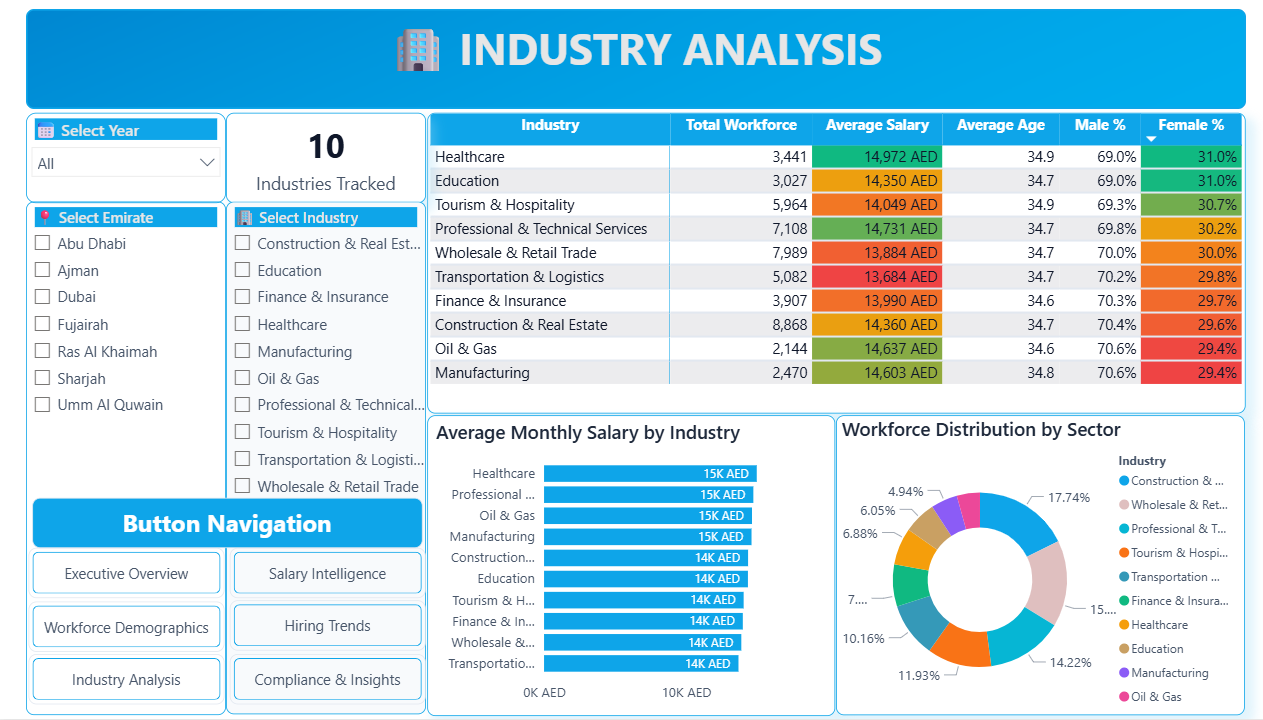

This screenshot's page, from the dashboard's own definition file:
{"tool":"powerbi","page":{"name":"Industry Analysis","canvas":[1280,720],"ordinal":2},"visuals":[{"type":"image","box":[30,9.8,1220,100.1],"z":0},{"type":"textbox","box":[30,9.8,1220,100.1],"z":1000},{"type":"pivotTable","fields":{"Rows":["workforce_data.Industry"],"Values":["All Measures.Total Workforce","All Measures.Average Salary","All Measures.Average Age","All Measures.Male %","All Measures.Female %"]},"box":[430.7,113.4,818,300.4],"z":2000},{"type":"clusteredBarChart","title":"Average Monthly Salary by Industry","fields":{"Category":["workforce_data.Industry"],"Y":["All Measures.Average Salary"]},"box":[431.2,416.2,408,300.4],"z":3000},{"type":"donutChart","title":"Workforce Distribution by Sector","fields":{"Category":["workforce_data.Industry"],"Y":["All Measures.Total Workforce"]},"box":[840,416.2,408.8,300],"z":4000},{"type":"card","fields":{"Values":["All Measures.Industry Count"]},"box":[230.1,113.8,200,90],"z":5000},{"type":"slicer","fields":{"Values":["Date.Year"]},"box":[29.5,113.3,200,90],"z":6000},{"type":"slicer","fields":{"Values":["workforce_data.Emirate"]},"box":[29.5,202.4,200,513.9],"z":7000},{"type":"slicer","fields":{"Values":["workforce_data.Industry"]},"box":[230.2,202,200.3,513],"z":8000},{"type":"actionButton","box":[32,548.8,196,50],"z":8001},{"type":"actionButton","box":[32,601.9,196,50],"z":8002},{"type":"actionButton","box":[32,655,196,50],"z":8003},{"type":"actionButton","box":[234,548.3,196,50],"z":8004},{"type":"actionButton","box":[234,601.6,196,50],"z":8005},{"type":"actionButton","box":[234,655,196,50],"z":8006},{"type":"textbox","box":[36,498.8,390,50],"z":8007}]}

Visuals, with their boxes in screenshot pixels (x1, y1, x2, y2), scaled from the page's 1280x720 canvas onto the 1263x720 screenshot:
image: (30,10,1233,110)
textbox: (30,10,1233,110)
pivotTable - workforce_data.Industry x All Measures.Total Workforce: (425,113,1232,414)
"Average Monthly Salary by Industry" clusteredBarChart: (425,416,828,717)
"Workforce Distribution by Sector" donutChart: (829,416,1232,716)
card - All Measures.Industry Count: (227,114,424,204)
slicer - Date.Year: (29,113,226,203)
slicer - workforce_data.Emirate: (29,202,226,716)
slicer - workforce_data.Industry: (227,202,425,715)
actionButton: (32,549,225,599)
actionButton: (32,602,225,652)
actionButton: (32,655,225,705)
actionButton: (231,548,424,598)
actionButton: (231,602,424,652)
actionButton: (231,655,424,705)
textbox: (36,499,420,549)
